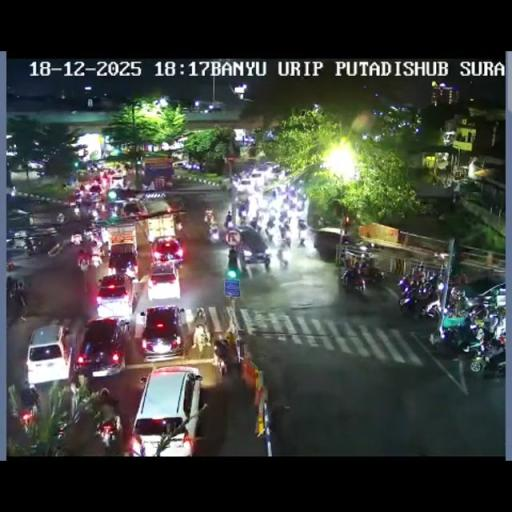Car: (128, 366, 202, 455), (74, 315, 129, 377), (26, 323, 72, 386), (138, 304, 186, 359), (230, 226, 272, 272), (95, 273, 135, 318), (142, 201, 178, 244), (146, 261, 182, 302), (106, 242, 140, 280), (150, 235, 186, 268), (27, 206, 67, 226), (118, 198, 148, 224), (256, 161, 282, 180), (87, 184, 103, 202), (237, 177, 256, 192), (26, 160, 44, 170), (110, 169, 125, 179), (172, 160, 189, 168)
Motorcycle: (262, 186, 308, 240), (434, 314, 480, 355), (398, 275, 440, 318), (478, 339, 506, 378), (94, 412, 121, 451), (192, 306, 210, 351), (9, 282, 27, 323), (342, 264, 367, 293), (77, 242, 102, 270), (447, 285, 468, 315), (18, 404, 37, 435), (467, 300, 489, 326), (212, 338, 230, 366), (490, 309, 506, 339), (24, 236, 42, 255), (410, 263, 426, 284), (246, 192, 258, 218), (116, 318, 130, 340), (54, 422, 68, 443), (450, 270, 468, 286), (208, 222, 220, 244), (356, 242, 374, 256), (83, 228, 97, 246), (279, 246, 290, 268), (315, 215, 332, 229), (100, 237, 110, 260), (266, 228, 278, 246), (339, 233, 354, 247), (258, 213, 268, 233), (294, 196, 306, 212), (238, 201, 248, 220), (204, 208, 214, 225), (70, 232, 82, 246), (282, 232, 292, 248), (90, 206, 99, 221), (220, 178, 230, 191), (249, 218, 258, 231), (298, 218, 307, 231), (73, 204, 81, 218), (298, 234, 306, 247), (226, 218, 234, 230), (271, 188, 278, 201), (176, 219, 182, 232)
